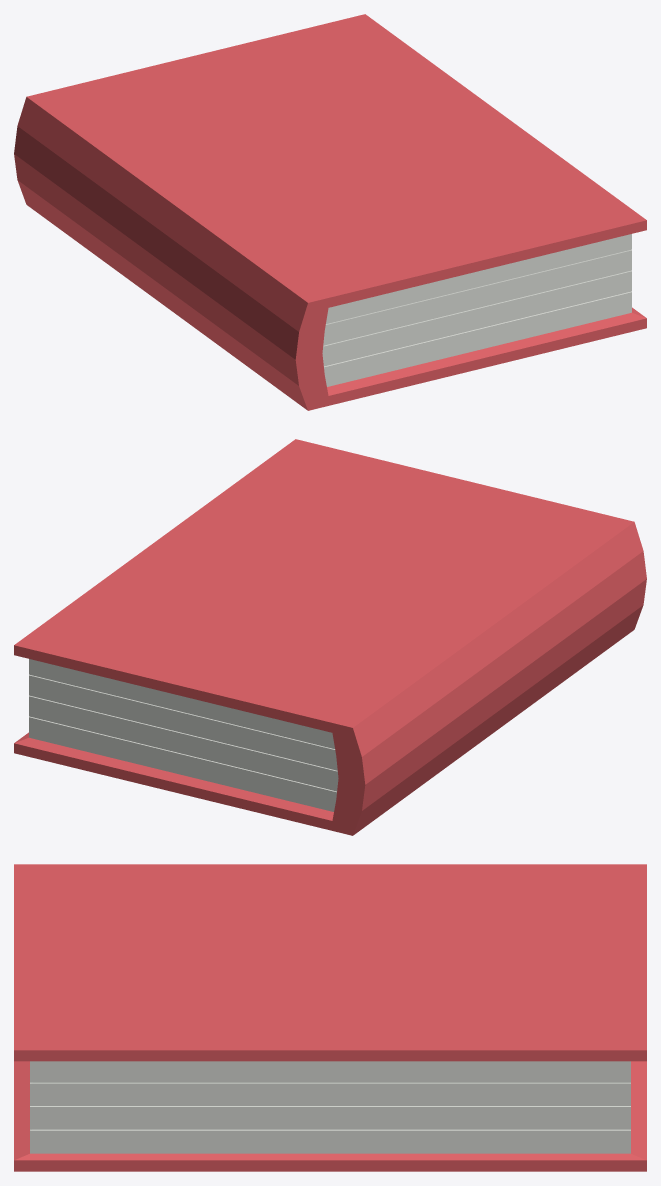
Rendered from mdl_diary.fbx.
3 views of the same model, one above another, from view 1: azimuth 30°, elevation 25°; view 2: azimuth 150°, elevation 25°; view 3: azimuth 270°, elevation 25° (orthographic). The views are drawn at different scales.
Parts seen in each view (by area): view 1: Cube.001; view 2: Cube.001; view 3: Cube.001.
Part boxes in pixels (x1,y1,x2,y2): Cube.001: (14, 14, 646, 410); Cube.001: (14, 439, 646, 835); Cube.001: (14, 864, 646, 1171).
Size of the model in its own units: 13.46 by 3.95 by 18.69.
